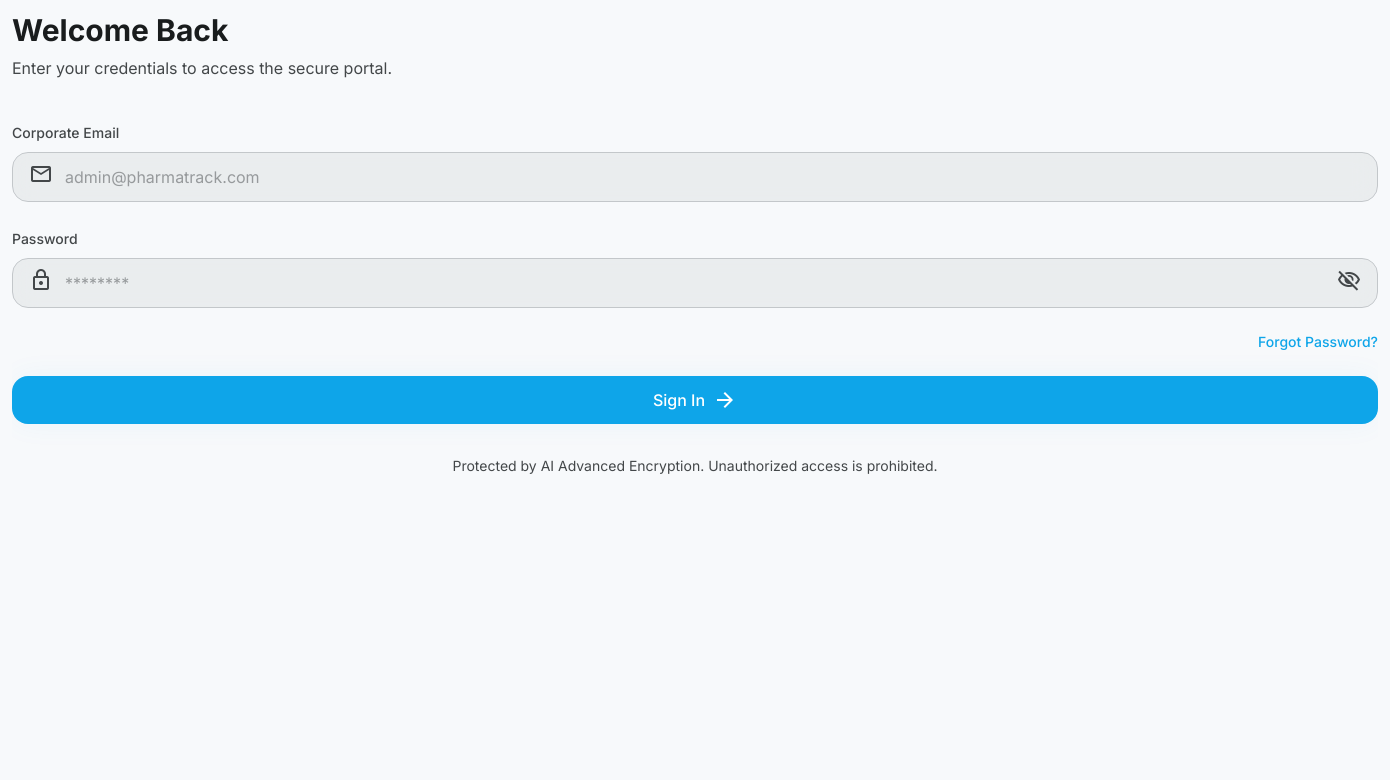
Scenario: LoginPage › shows an error message when login fails
Type "bad@example.com" into the field labelled "Corporate Email".
click(715, 177); type("bad@example.com")  # box [53, 153, 1377, 201]
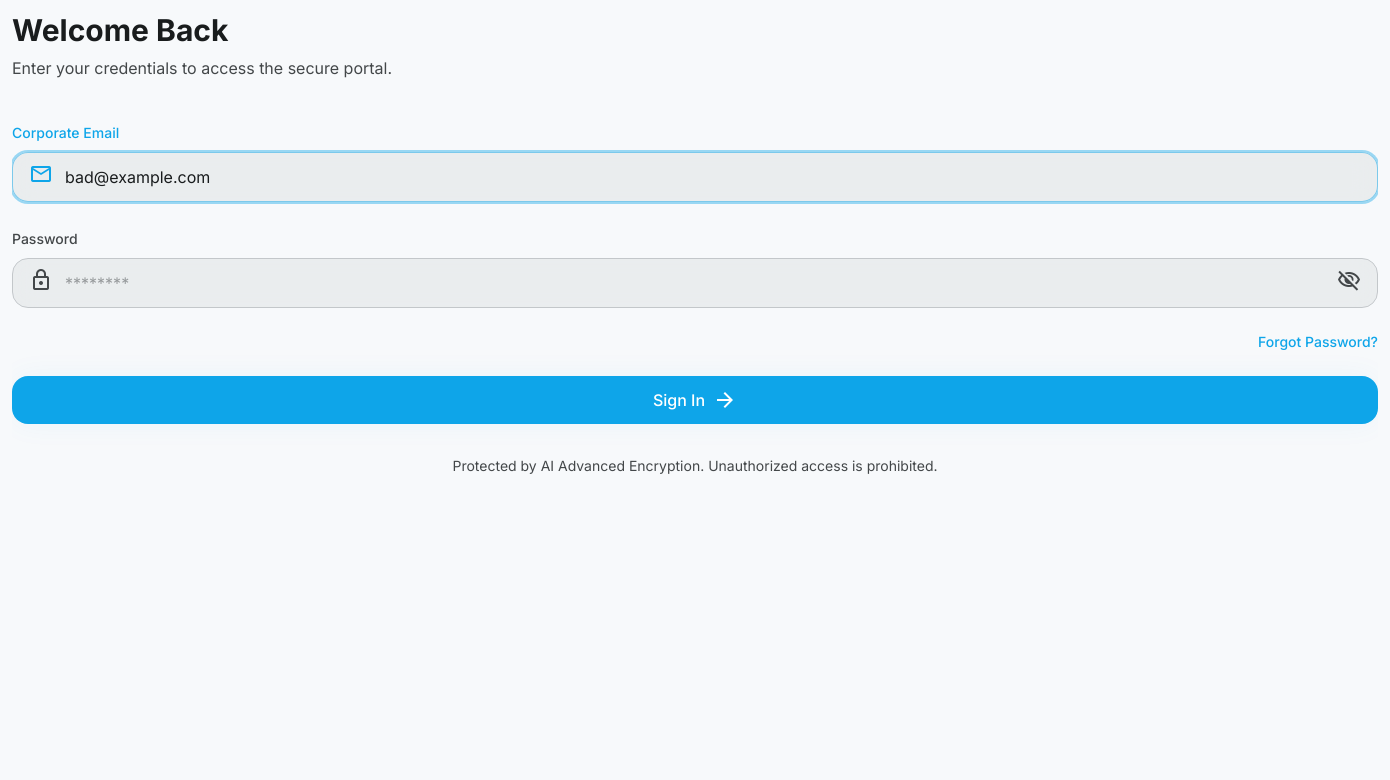
Type "wrongpass" into the password field labelled "Password".
click(695, 283); type("wrongpass")  # box [53, 259, 1337, 307]
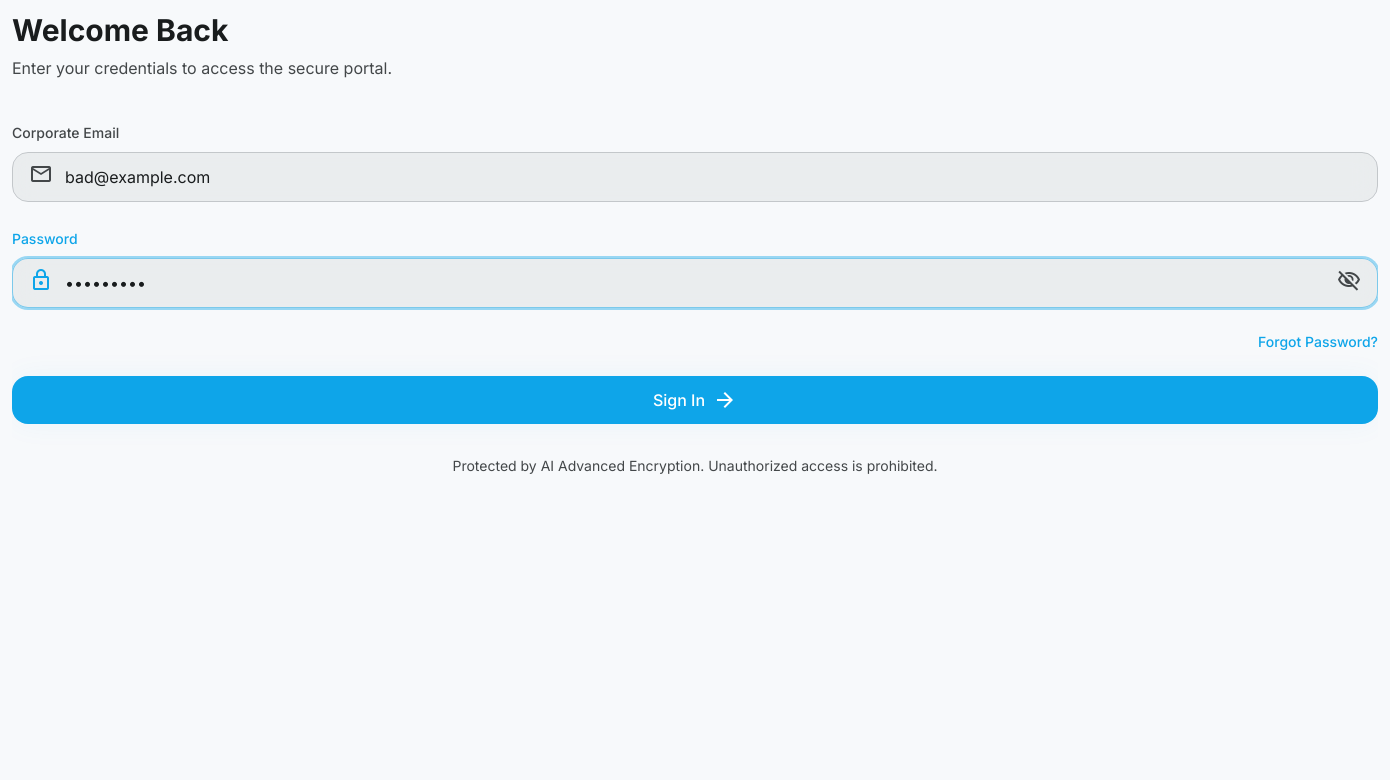
Click the button "Sign In".
click(695, 400)  # box [12, 376, 1378, 424]
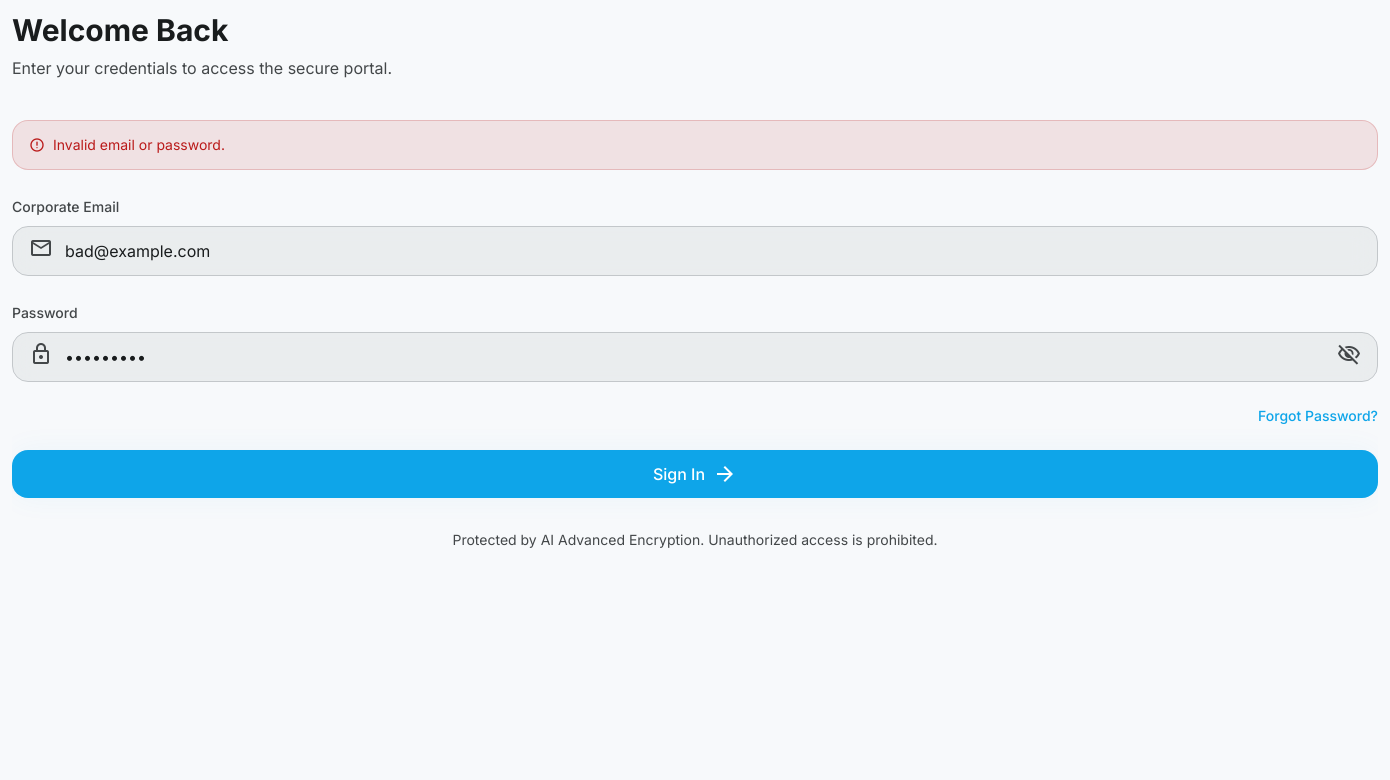
Result: the text "Invalid email or password." is shown at [12, 120, 1378, 170]
